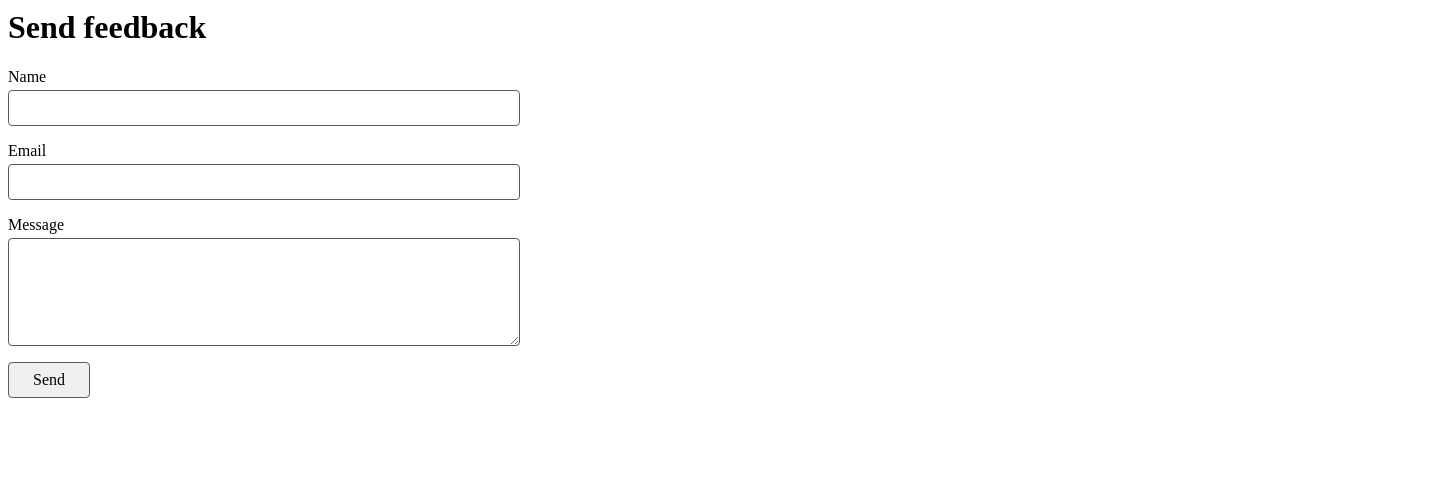
Test: a refused request keeps the form and asks to try again
Step 1. Type "Ada" into the field labelled "Name" → (264, 108), box [8,90,520,126]
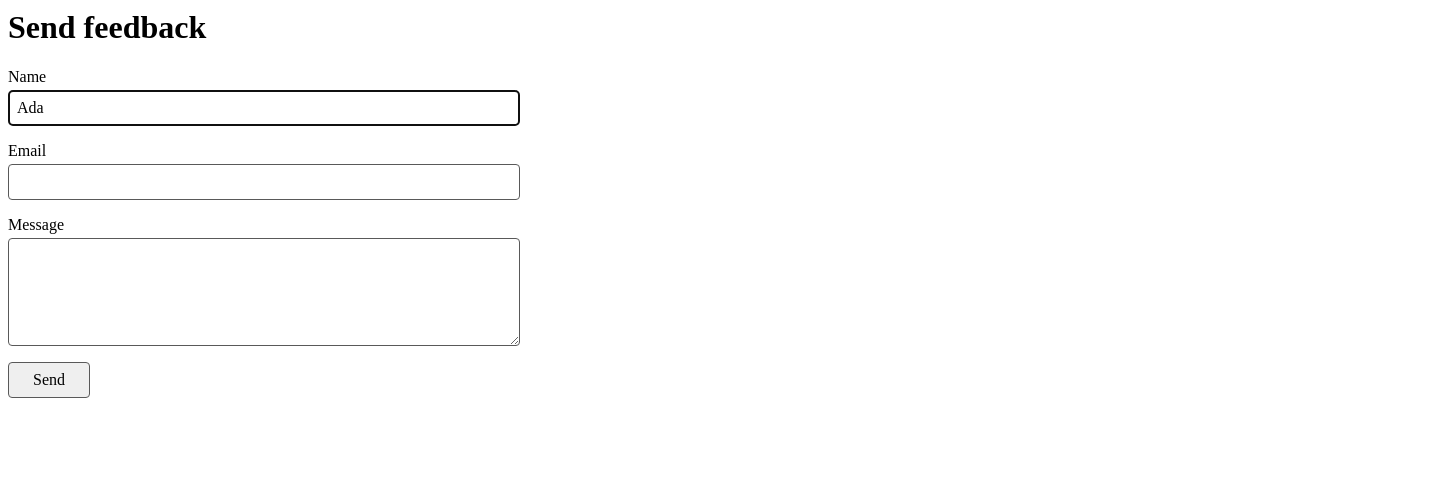
Step 2. Type "ada@example.com" into the field labelled "Email" → (264, 182), box [8,164,520,200]
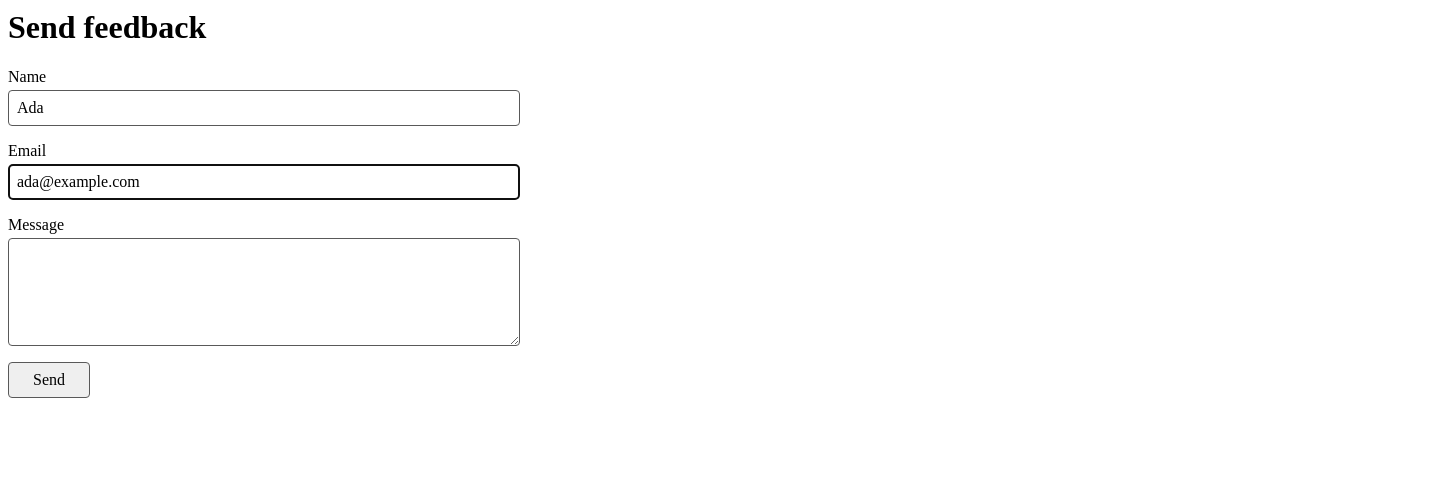
Step 3. Type "The form is easy to use." into the text box labelled "Message" → (264, 292), box [8,238,520,346]
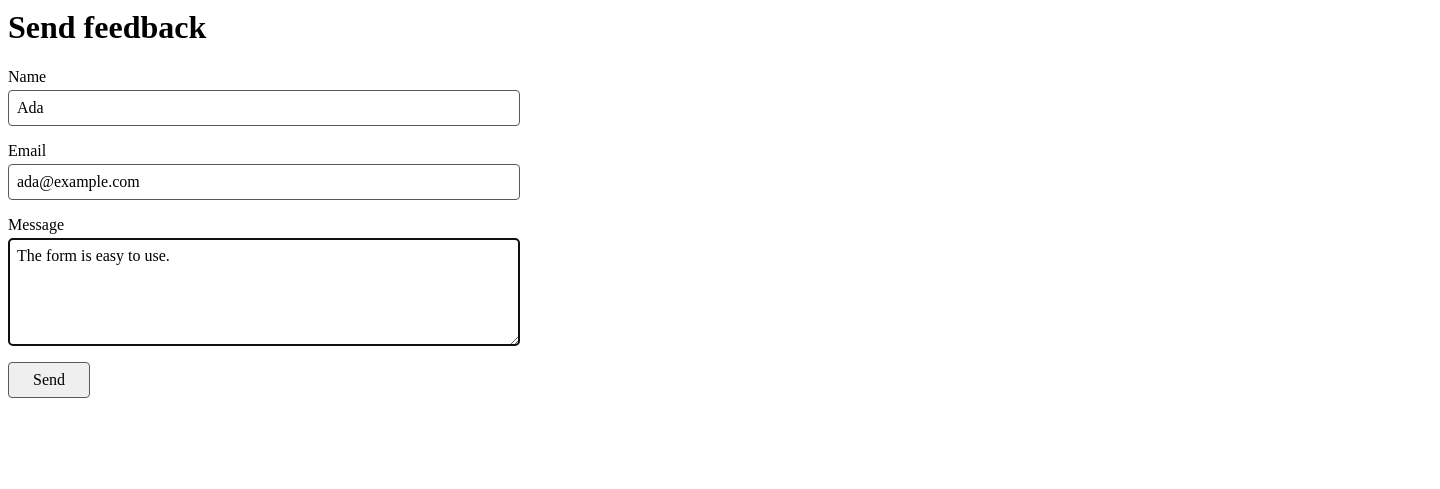
Step 4. Click the button "Send" → (49, 380), box [8,362,90,398]
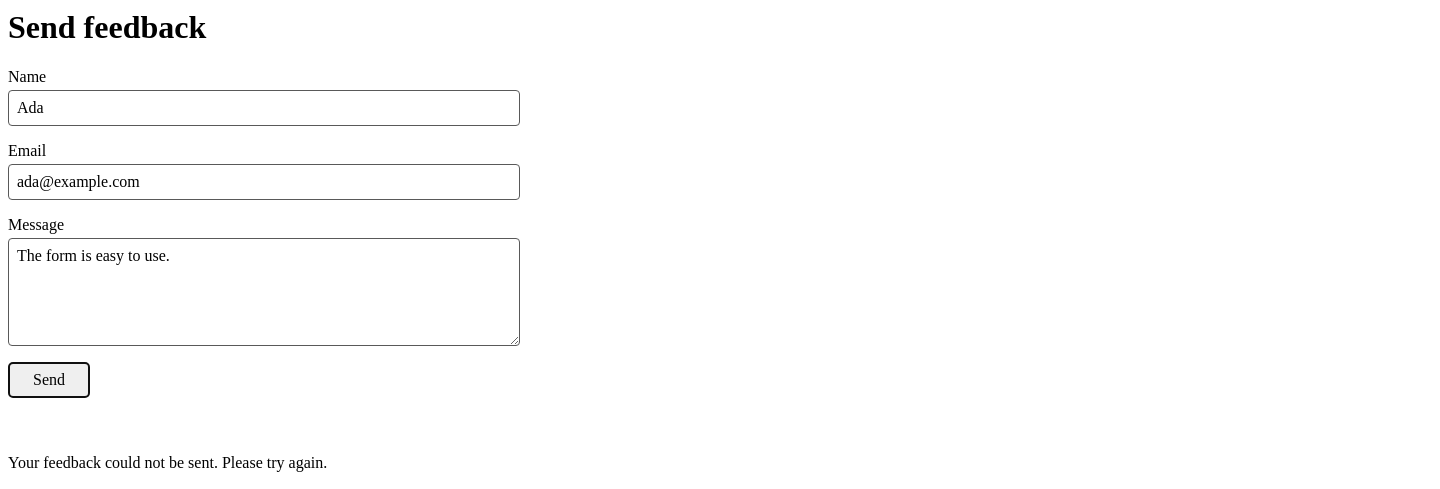
Expected: the text "Your feedback could not be sent. Please try again." is shown, [8,454,327,471]
